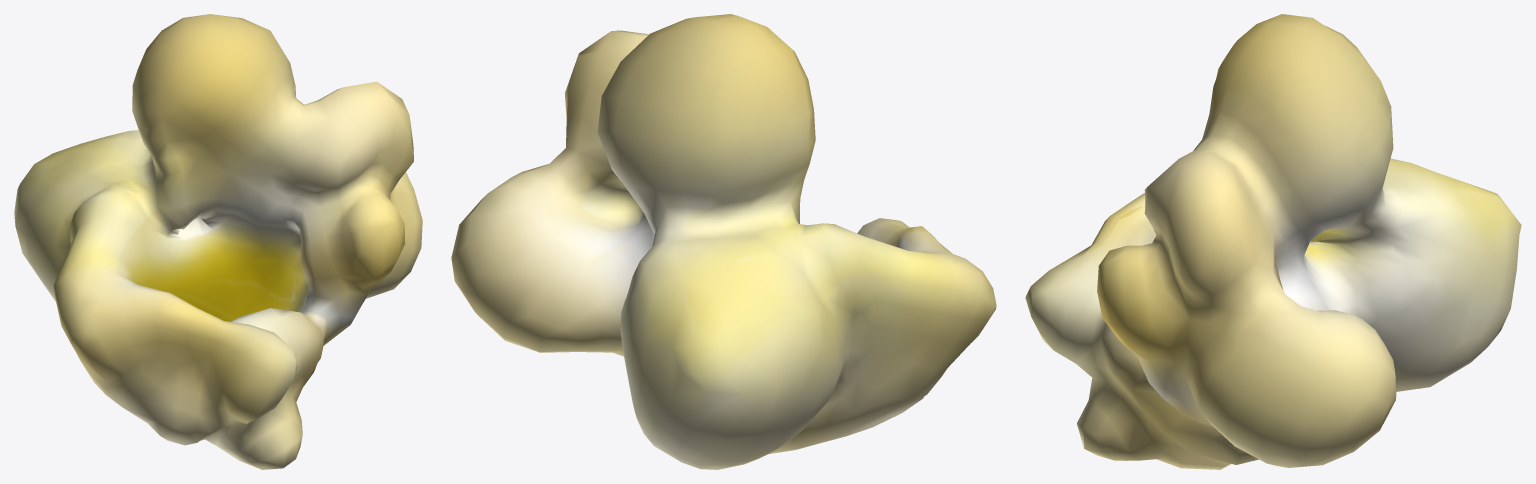
Rendered from popcorn.glb.
3 views of the same model, side by side, from view 1: azimuth 30°, elevation 25°; view 2: azimuth 150°, elevation 25°; view 3: azimuth 270°, elevation 25° (orthographic). The views are drawn at different scales.
Parts seen in each view (by area): view 1: Popcorn3; view 2: Popcorn3; view 3: Popcorn3.
Boxes of the visible parts, x1=… form: Popcorn3: x1=14, y1=14, x2=422, y2=469; Popcorn3: x1=451, y1=14, x2=996, y2=469; Popcorn3: x1=1025, y1=14, x2=1521, y2=469.
Size of the model in its own units: 0.4391 by 0.4137 by 0.4151.
1 material, 1 textured.
